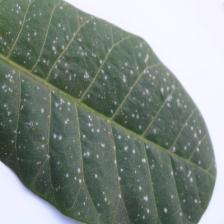red rust: (0, 0, 217, 223)
